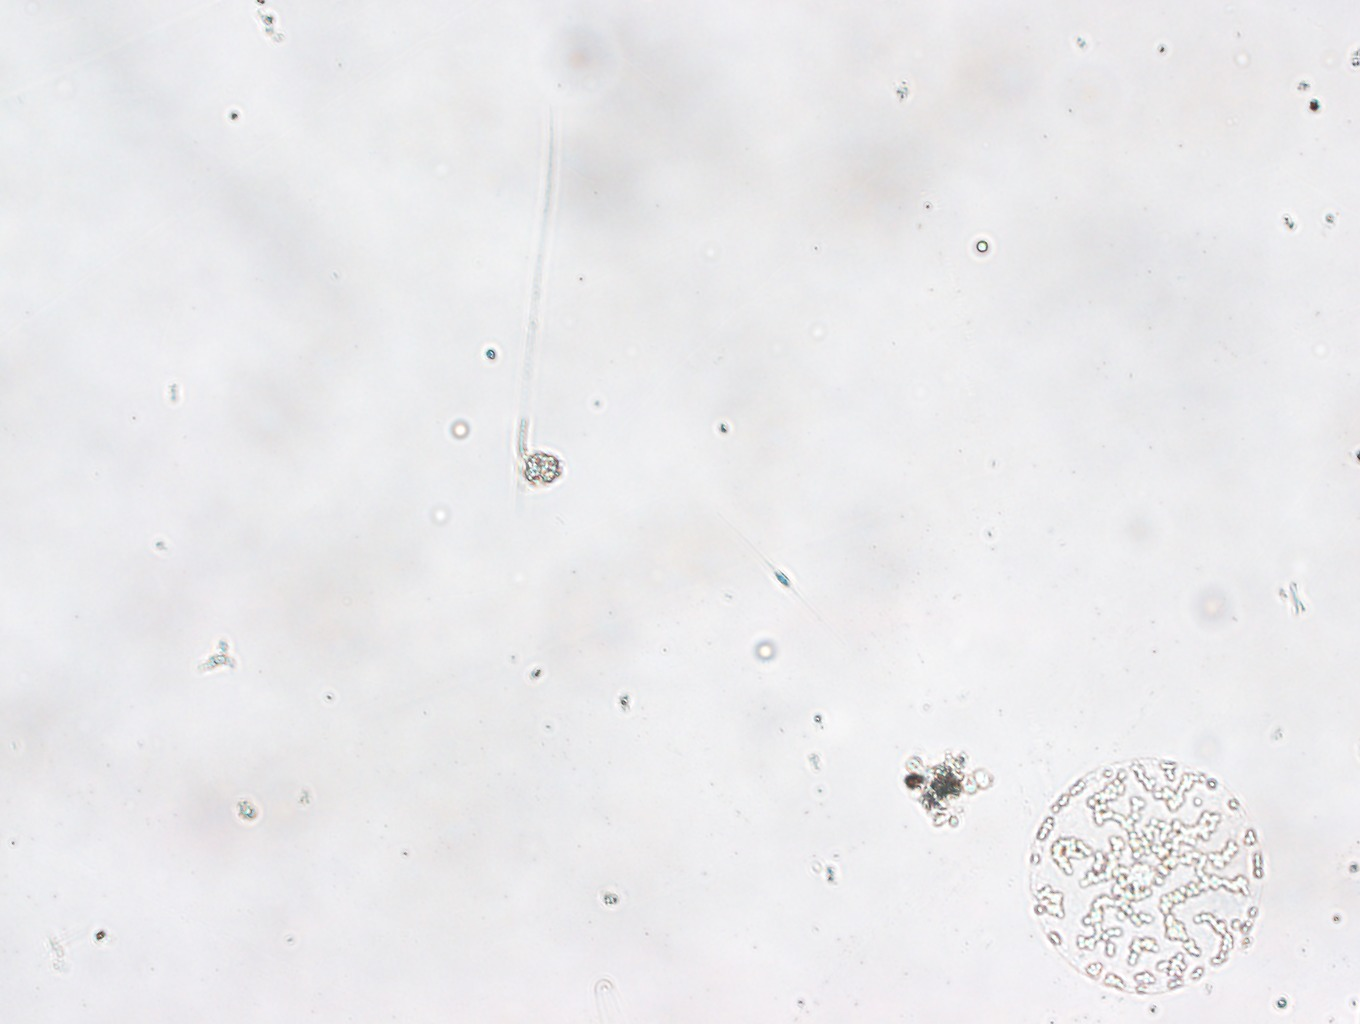coscinodiscus: (1029, 758, 1263, 998)
